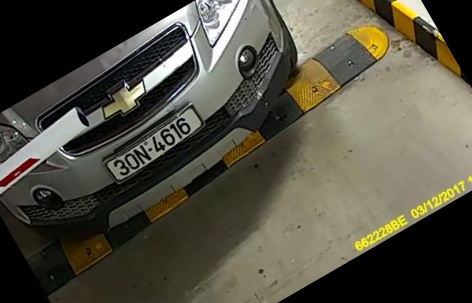plate: (102, 105, 208, 184)
